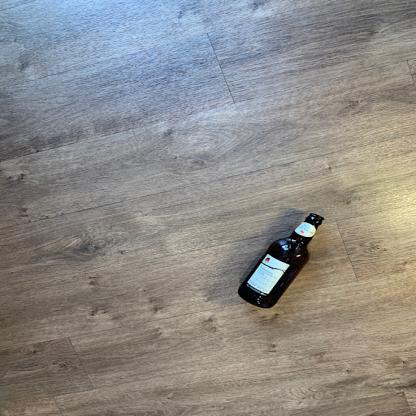trash: (233, 210, 328, 314)
